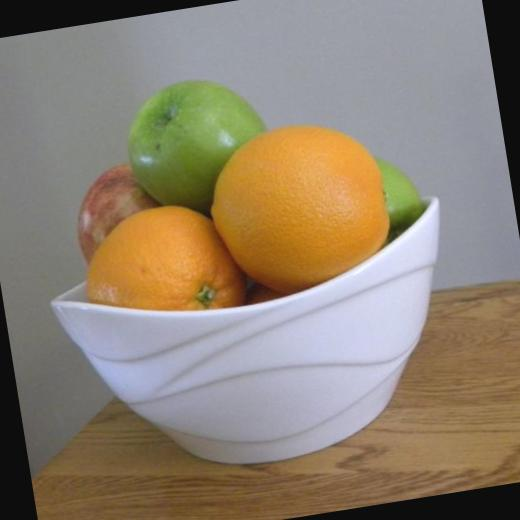Apple: (118, 84, 265, 222), (65, 158, 168, 264), (372, 155, 429, 244)
Grape: (197, 106, 406, 294)
